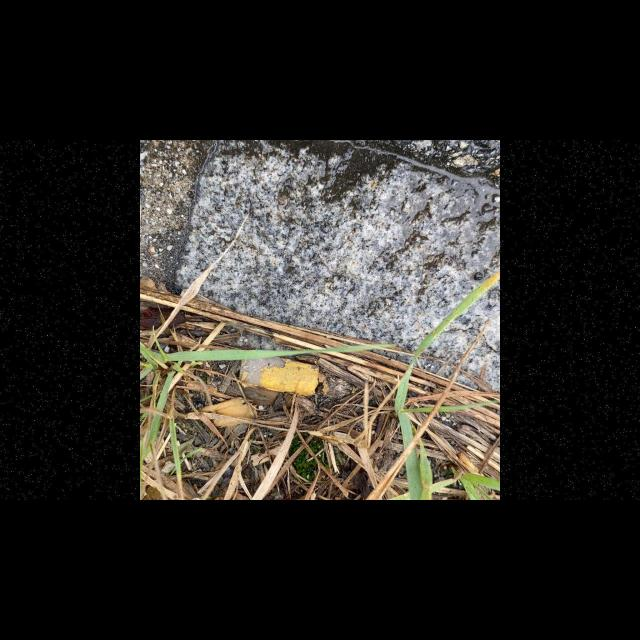cigarette: (239, 354, 320, 396)
